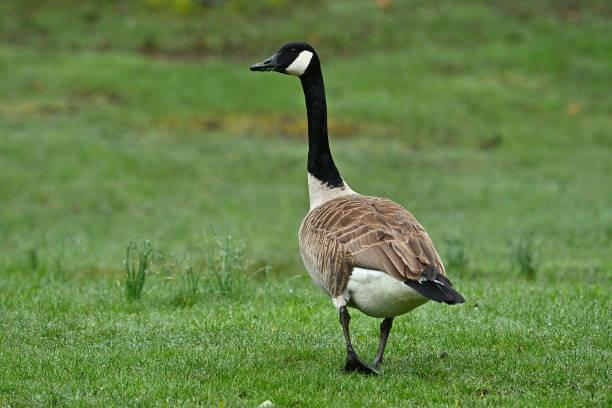Canadian-Goose: (250, 40, 460, 378)
